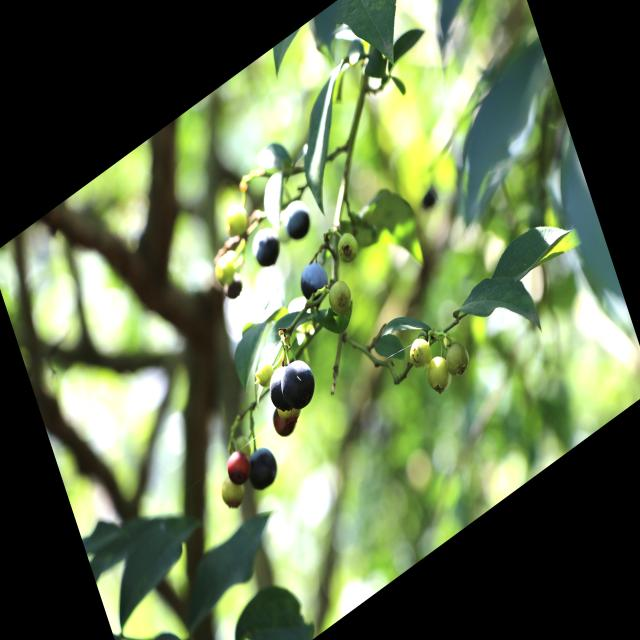blueberry: (278, 351, 322, 417), (280, 193, 318, 252), (243, 440, 281, 498), (294, 255, 331, 310), (248, 221, 285, 274), (262, 361, 296, 416)
blueberry-halfripe: (223, 444, 252, 490)
blueberry-unripe: (215, 466, 254, 520), (221, 192, 259, 246), (209, 243, 245, 299), (439, 332, 473, 385), (404, 329, 437, 380), (422, 352, 455, 400), (324, 272, 356, 320), (333, 226, 362, 269)
